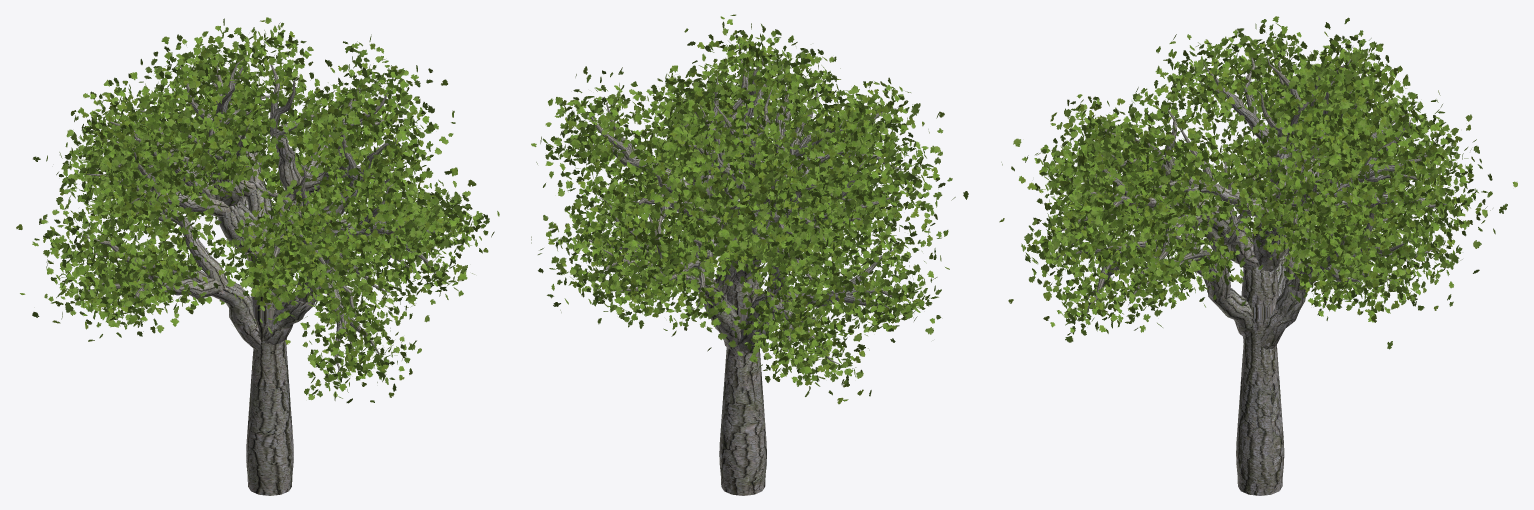
The model's file is oak_easytree_v015.glb.
3 renders of one model, left to right at view 1: azimuth 30°, elevation 25°; view 2: azimuth 150°, elevation 25°; view 3: azimuth 270°, elevation 25°, orthographic.
Parts seen in each view (by area): view 1: Oak foliage cards, Oak_EasyTree_V015_Proof; view 2: Oak foliage cards, Oak_EasyTree_V015_Proof; view 3: Oak foliage cards, Oak_EasyTree_V015_Proof.
Boxes of the visible parts, x1=… form: Oak foliage cards: x1=16, y1=17, x2=499, y2=403; Oak_EasyTree_V015_Proof: x1=79, y1=53, x2=453, y2=495; Oak foliage cards: x1=531, y1=14, x2=968, y2=404; Oak_EasyTree_V015_Proof: x1=574, y1=44, x2=910, y2=495; Oak foliage cards: x1=999, y1=16, x2=1517, y2=349; Oak_EasyTree_V015_Proof: x1=1054, y1=46, x2=1446, y2=495.
Size of the model in its own units: 7.81 by 8.2 by 8.62.
Materials: 2 (2 with a texture image).
